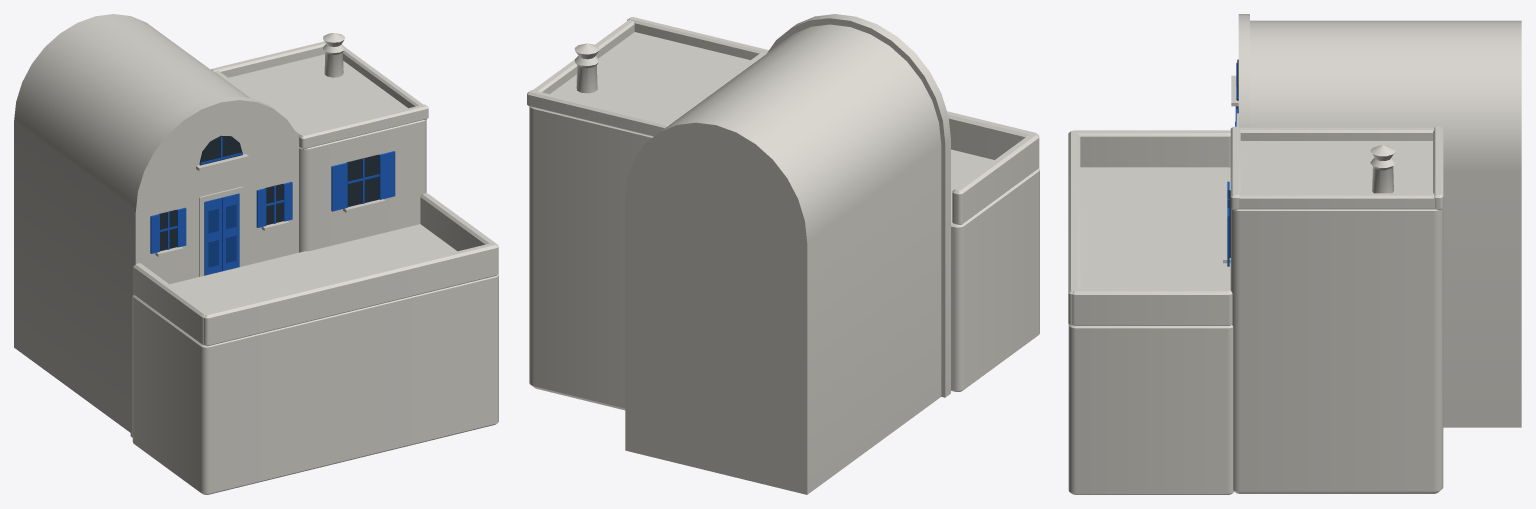
File: cave-low.glb
The picture shows the model from 3 angles, left to right: view 1: azimuth 30°, elevation 25°; view 2: azimuth 150°, elevation 25°; view 3: azimuth 270°, elevation 25°; orthographic projection. The views are drawn at different scales.
Visible parts, largest first — view 1: white43, white0, white1, white30, white46, white44, white45, white31, white32, pane35, white34, white2 (+8 smaller); view 2: white0, white30, white43, white1, white44, white46, white32, white31, white34, white42, white33; view 3: white30, white0, white43, white45, white44, white34, white33, white46, white1, white42, white31, white32.
Boxes of the visible parts, x1,y1,x2,y2 form: white43: (132,224,498,494); white0: (14,14,248,432); white1: (130,96,299,437); white30: (228,54,426,252); white46: (204,243,498,346); white44: (133,263,208,345); white45: (420,193,498,251); white31: (299,104,428,149); white32: (211,41,325,77); pane35: (347,154,379,206); white34: (343,47,422,108); white2: (199,186,243,276); white0: (625,24,941,494); white30: (529,32,750,410); white43: (951,149,1039,391); white1: (767,14,950,397); white44: (952,134,1039,224); white46: (947,111,1039,159); white32: (527,90,669,136); white31: (627,17,768,60); white34: (533,20,634,93); white42: (574,43,599,93); white33: (666,52,766,123); white30: (1230,141,1443,493); white0: (1250,20,1521,427); white43: (1068,167,1234,494); white45: (1072,288,1232,325); white44: (1073,130,1230,167); white34: (1238,193,1434,209); white33: (1239,127,1434,140); white46: (1068,130,1080,325); white1: (1238,14,1249,127); white42: (1370,145,1395,193); white31: (1230,126,1240,209); white32: (1433,126,1443,209).
Size of the model in its own units: 8.4 by 8.55 by 9.81.
